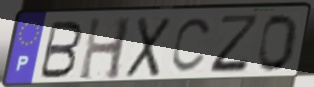B: (36, 20, 85, 81)
C: (168, 16, 215, 76)
H: (76, 16, 134, 83)
O: (256, 12, 301, 74)
X: (123, 15, 174, 80)
Z: (207, 13, 263, 76)
